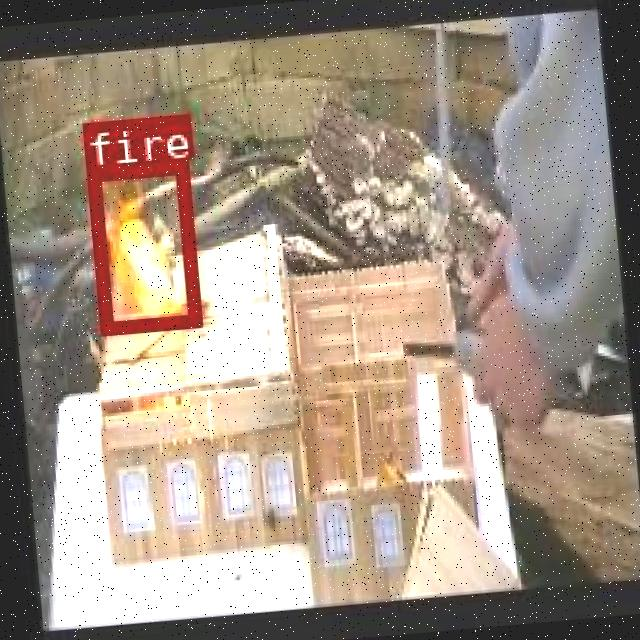fire: (84, 160, 198, 332)
